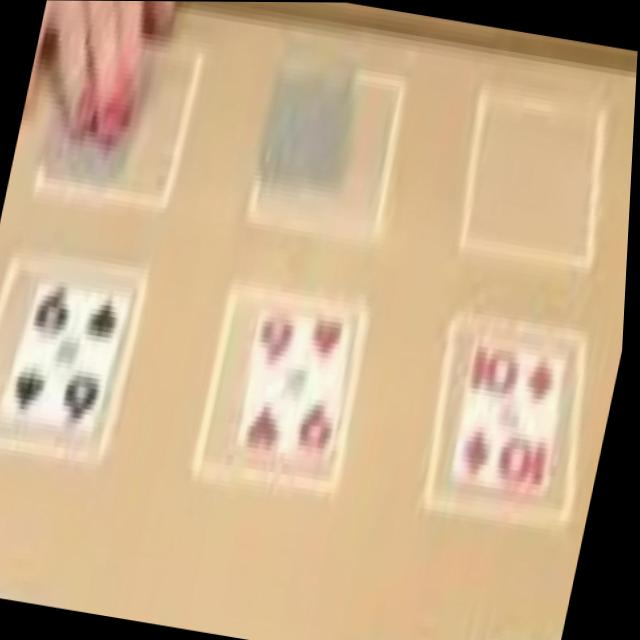Card-10: (454, 325, 574, 496)
Card-6: (0, 279, 139, 442)
Card-9: (240, 306, 356, 460)
